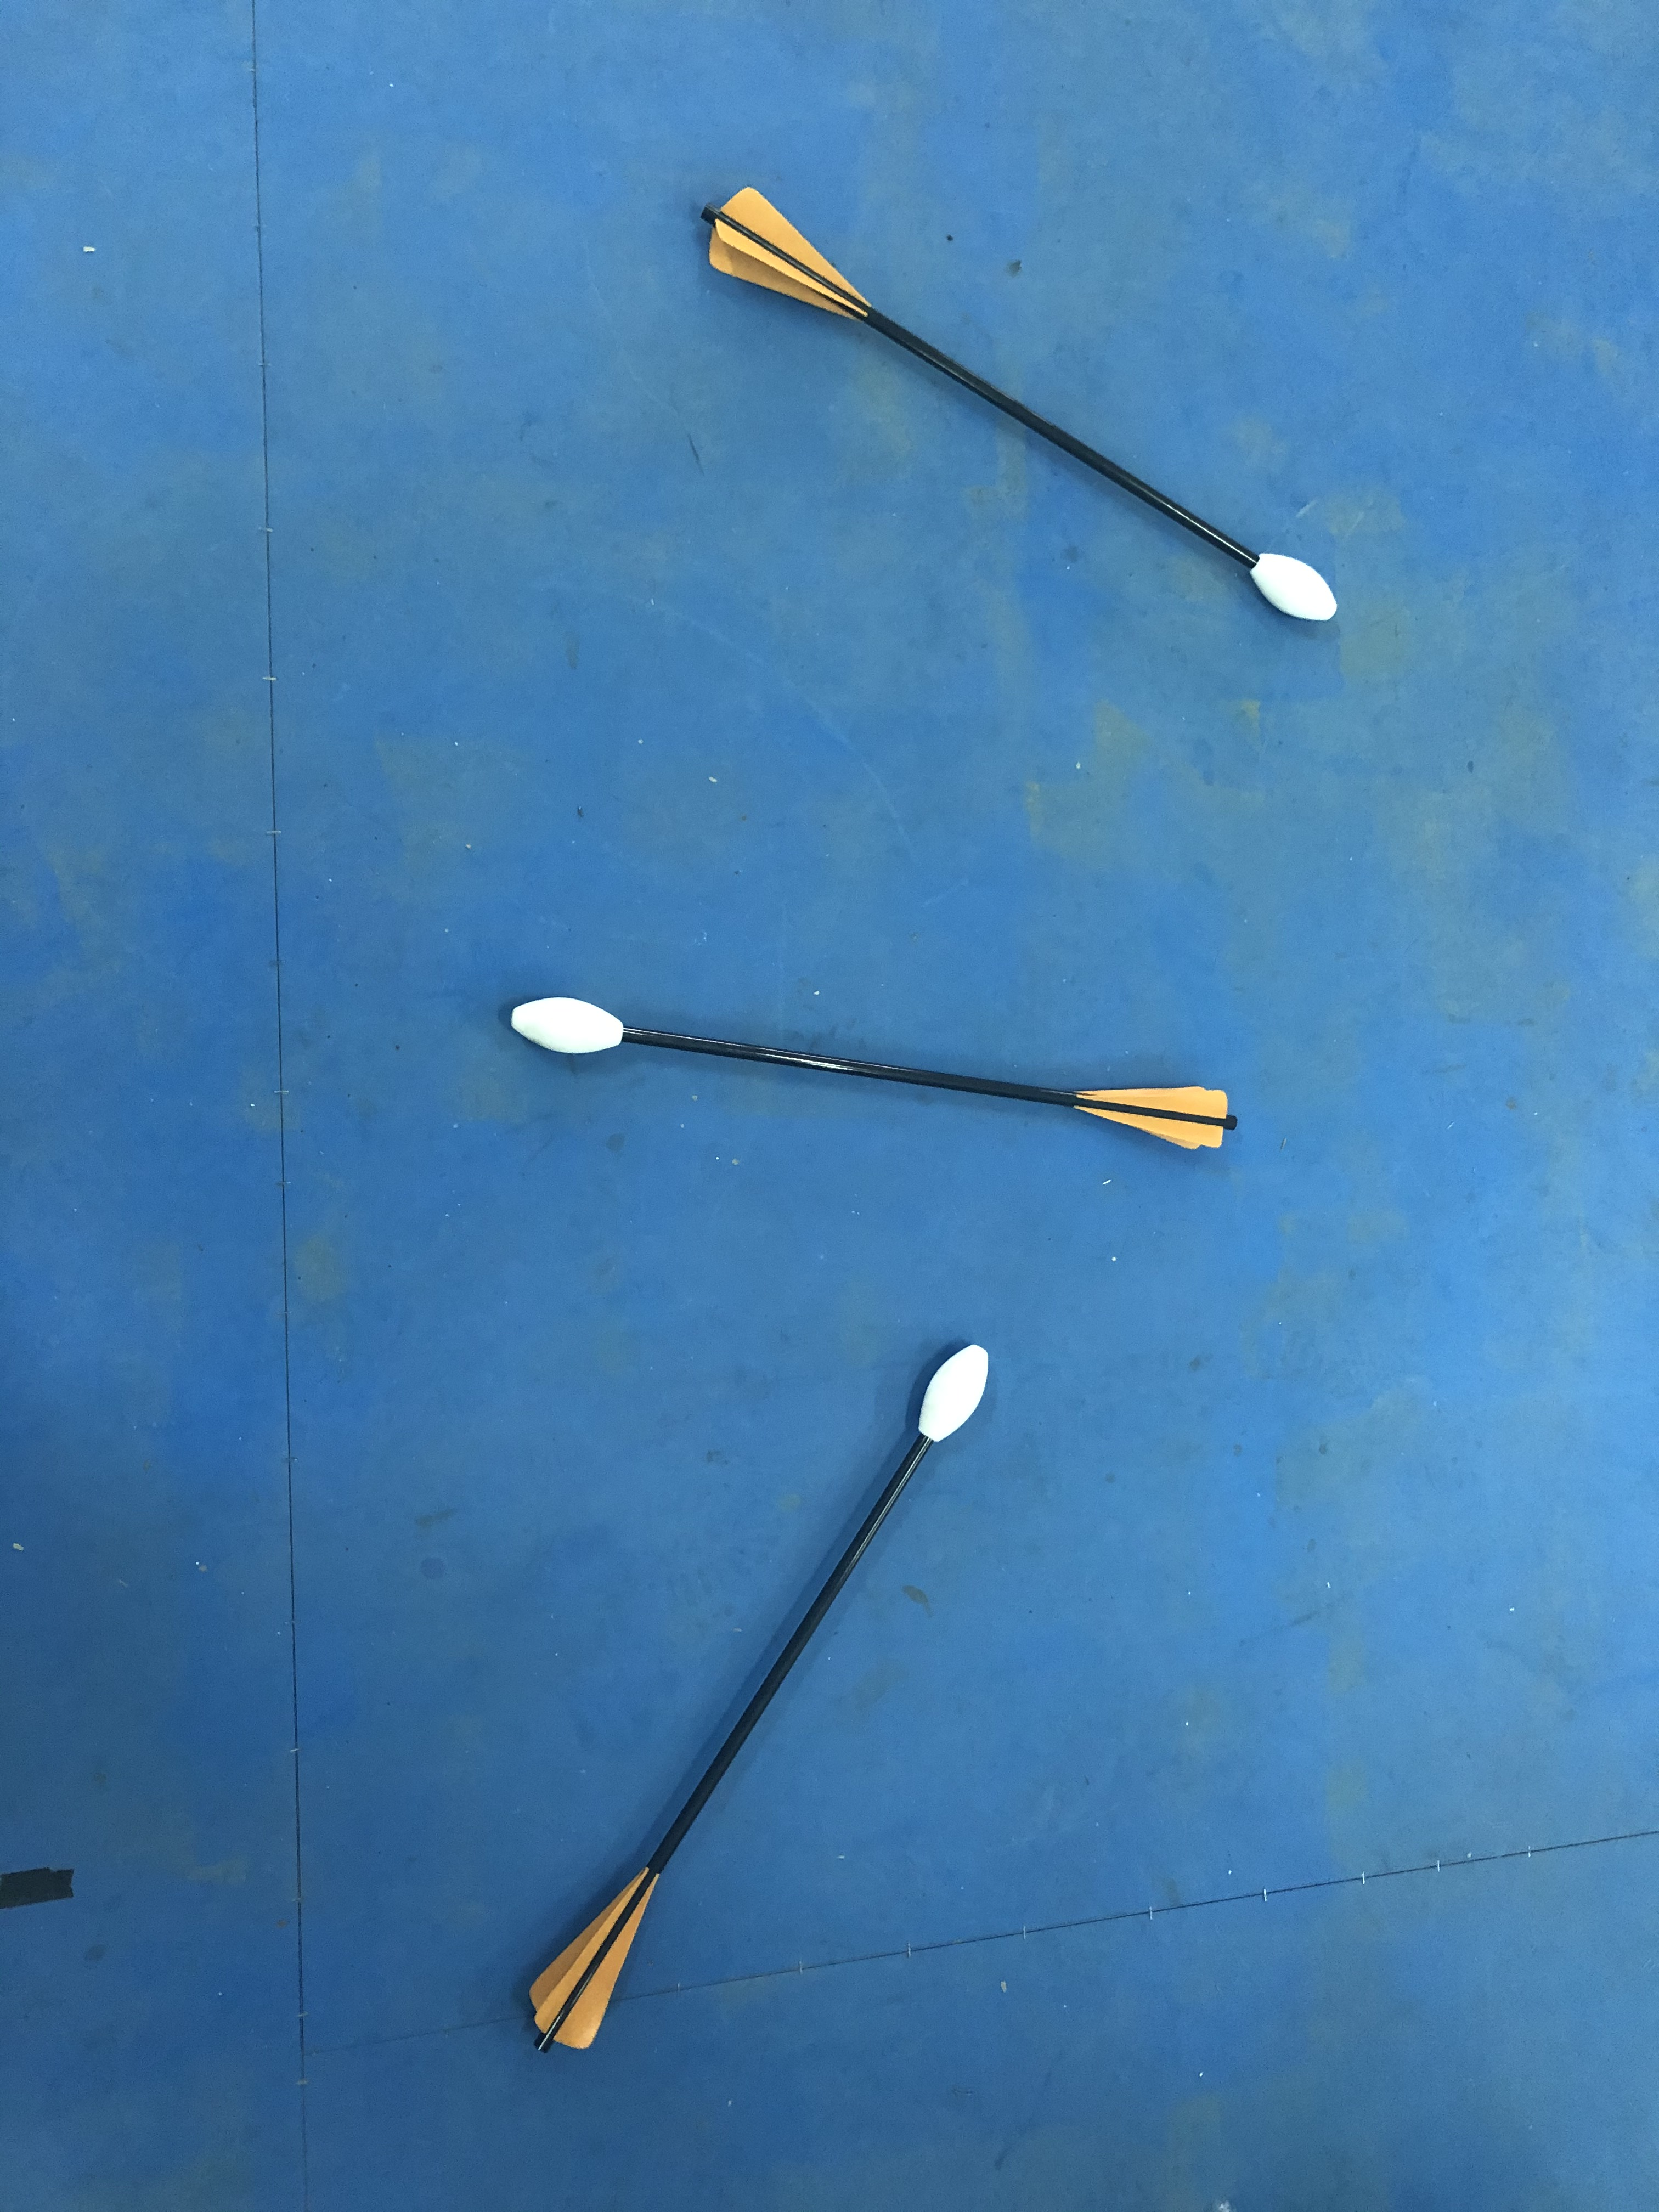arrow: (516, 1343, 1016, 2064), (690, 176, 1344, 632), (504, 981, 1249, 1157)
arrowFront: (910, 1339, 992, 1446), (498, 993, 627, 1057), (1239, 549, 1342, 629)
